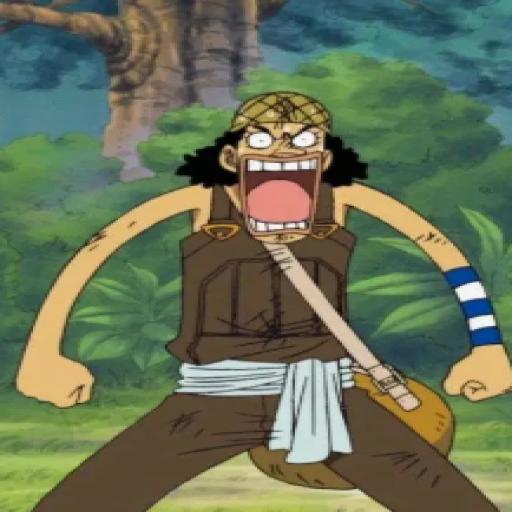Usopp: (11, 87, 512, 512)
